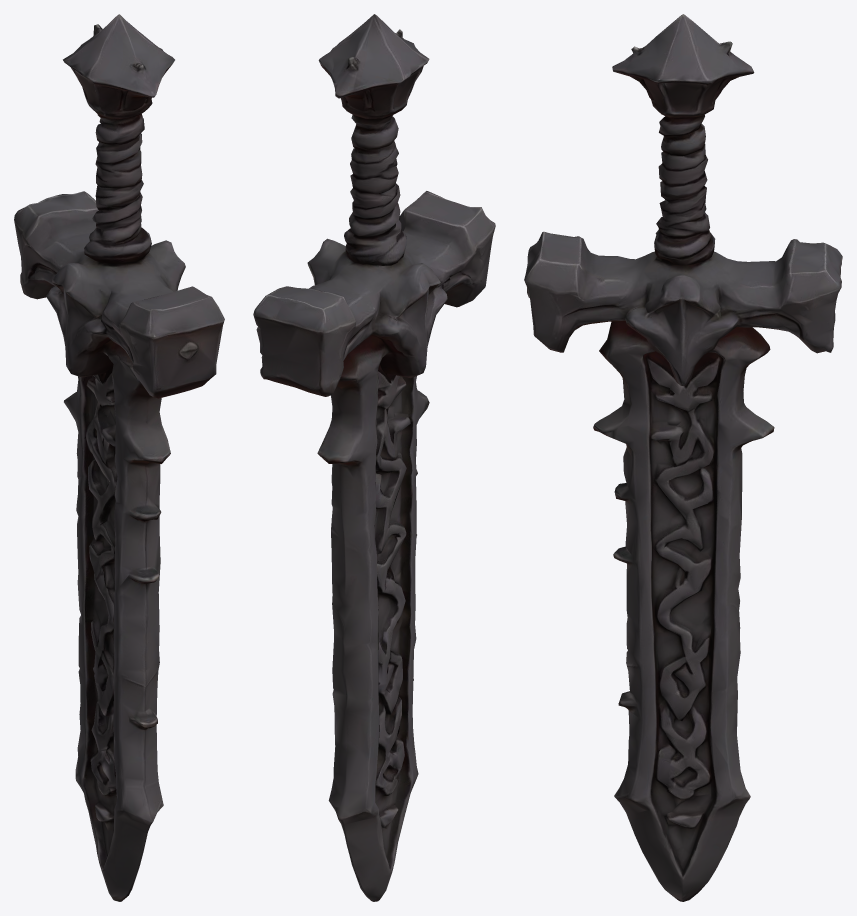
The model's file is sword-great.glb.
The picture shows the model from 3 angles, left to right: view 1: azimuth 30°, elevation 25°; view 2: azimuth 150°, elevation 25°; view 3: azimuth 270°, elevation 25°; orthographic projection.
Parts seen in each view (by area): view 1: tripo_node_ccabe8ec-814b-41df-b792-f139553f25d9; view 2: tripo_node_ccabe8ec-814b-41df-b792-f139553f25d9; view 3: tripo_node_ccabe8ec-814b-41df-b792-f139553f25d9.
Part boxes in pixels (<box>): tripo_node_ccabe8ec-814b-41df-b792-f139553f25d9: <box>14,14,224,901</box>; tripo_node_ccabe8ec-814b-41df-b792-f139553f25d9: <box>253,14,495,901</box>; tripo_node_ccabe8ec-814b-41df-b792-f139553f25d9: <box>524,14,842,901</box>.
Size of the model in its own units: 0.1413 by 1 by 0.3258.
Materials: 1 (1 with a texture image).
